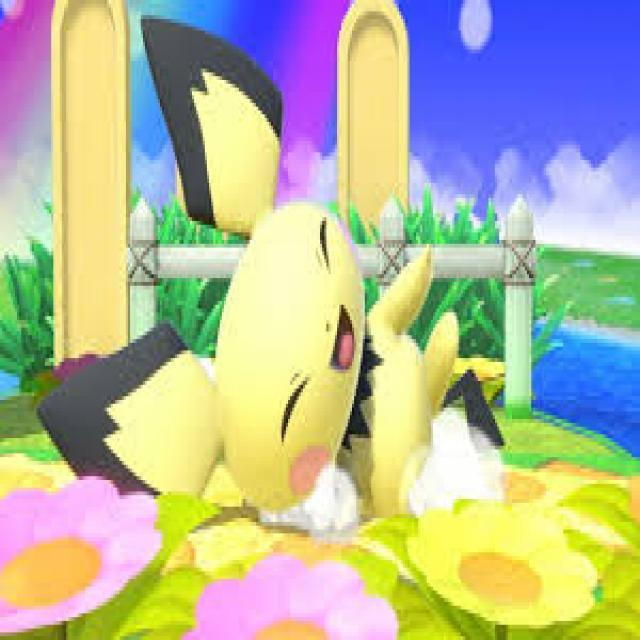pichu: (34, 12, 508, 492)
